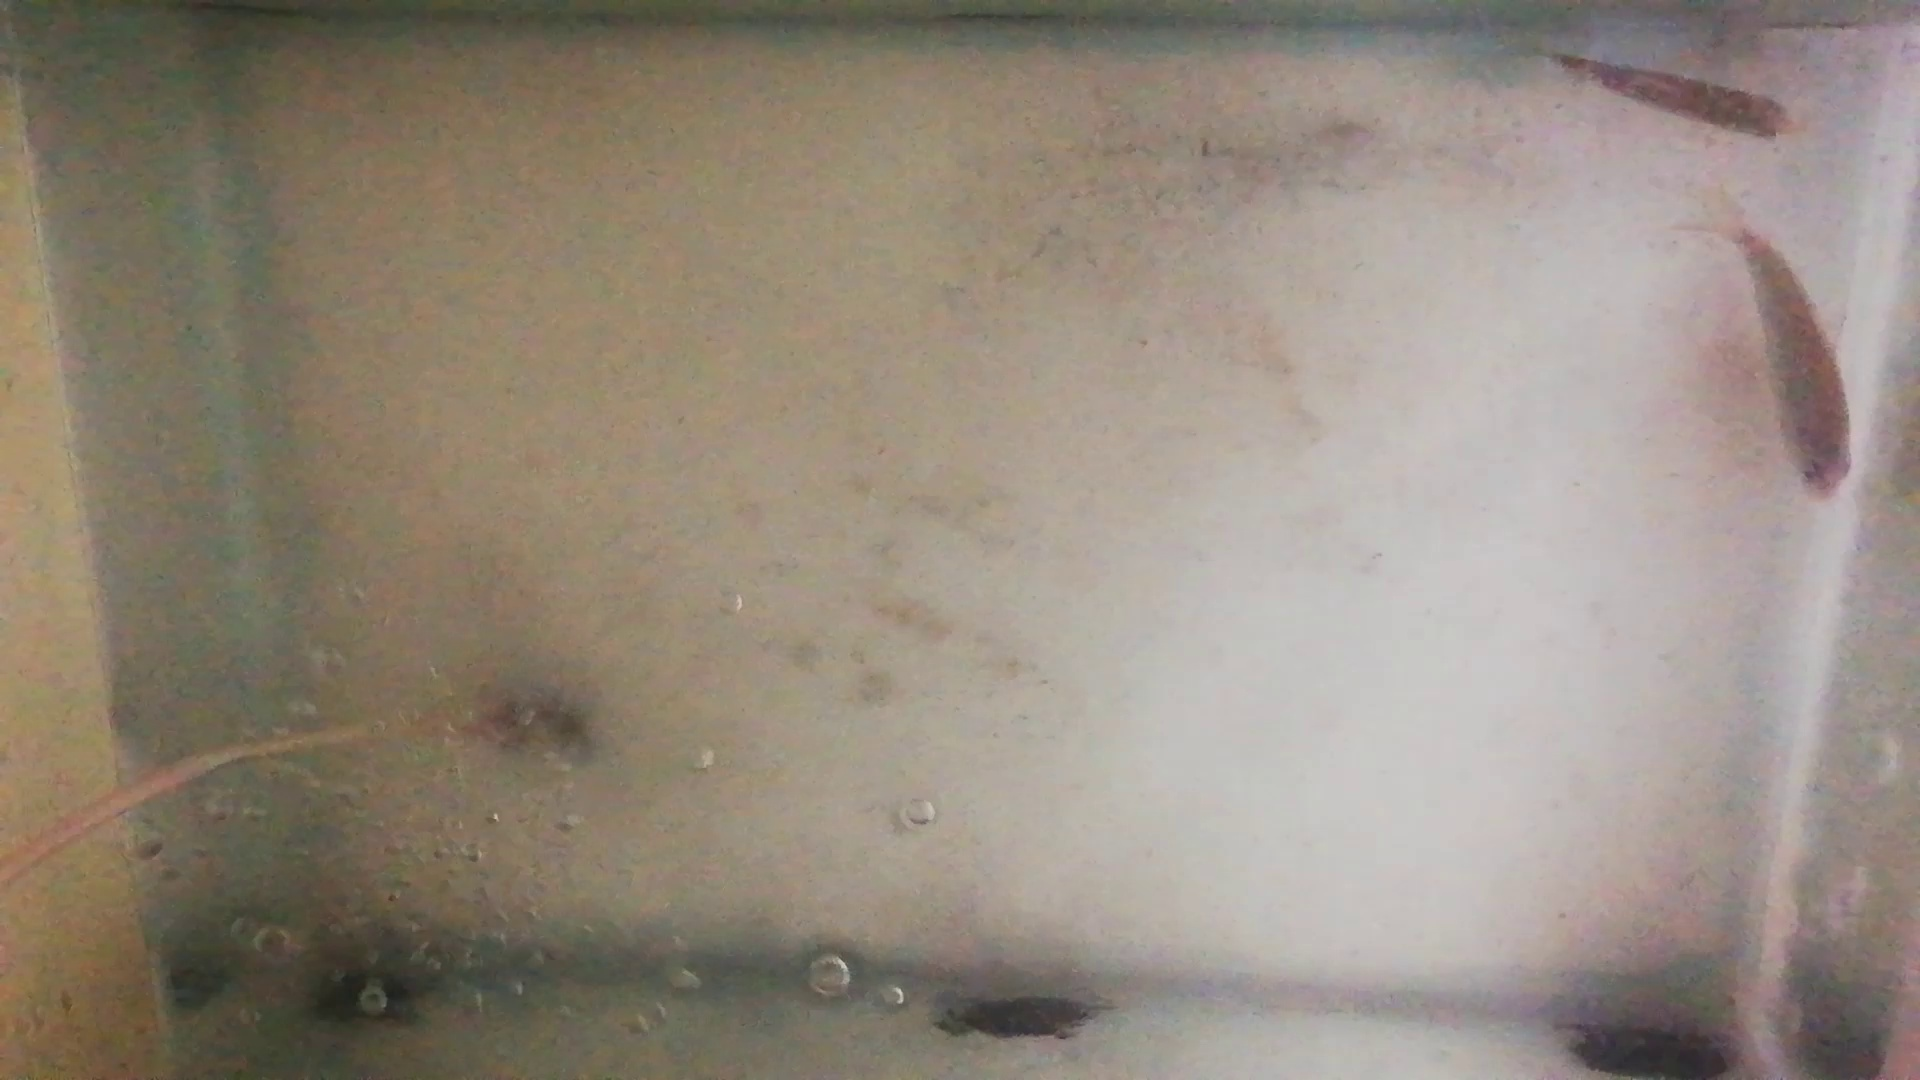fish: (1735, 224, 1855, 506), (1549, 47, 1796, 144)
